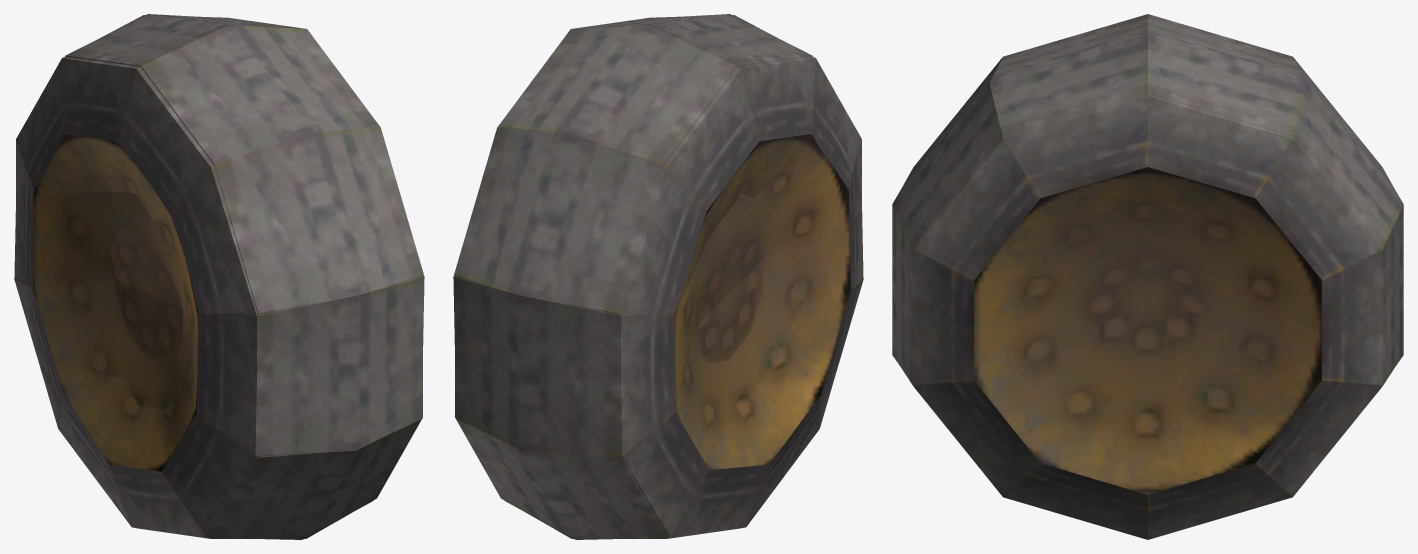
The model's file is wheel01.fbx.
The picture shows the model from 3 angles, left to right: view 1: azimuth 30°, elevation 25°; view 2: azimuth 150°, elevation 25°; view 3: azimuth 270°, elevation 25°; orthographic projection. The views are drawn at different scales.
Visible parts, largest first — view 1: polySurface216_2, polySurface216_1; view 2: polySurface216_2, polySurface216_1; view 3: polySurface216_2, polySurface216_1.
Boxes of the visible parts, x1,y1,x2,y2 form: polySurface216_2: (14, 14, 424, 539); polySurface216_1: (16, 15, 422, 538); polySurface216_2: (453, 14, 863, 539); polySurface216_1: (455, 15, 861, 538); polySurface216_2: (892, 14, 1403, 465); polySurface216_1: (892, 14, 1403, 539).
Size of the model in its own units: 0.4829 by 1.03 by 0.9826.
